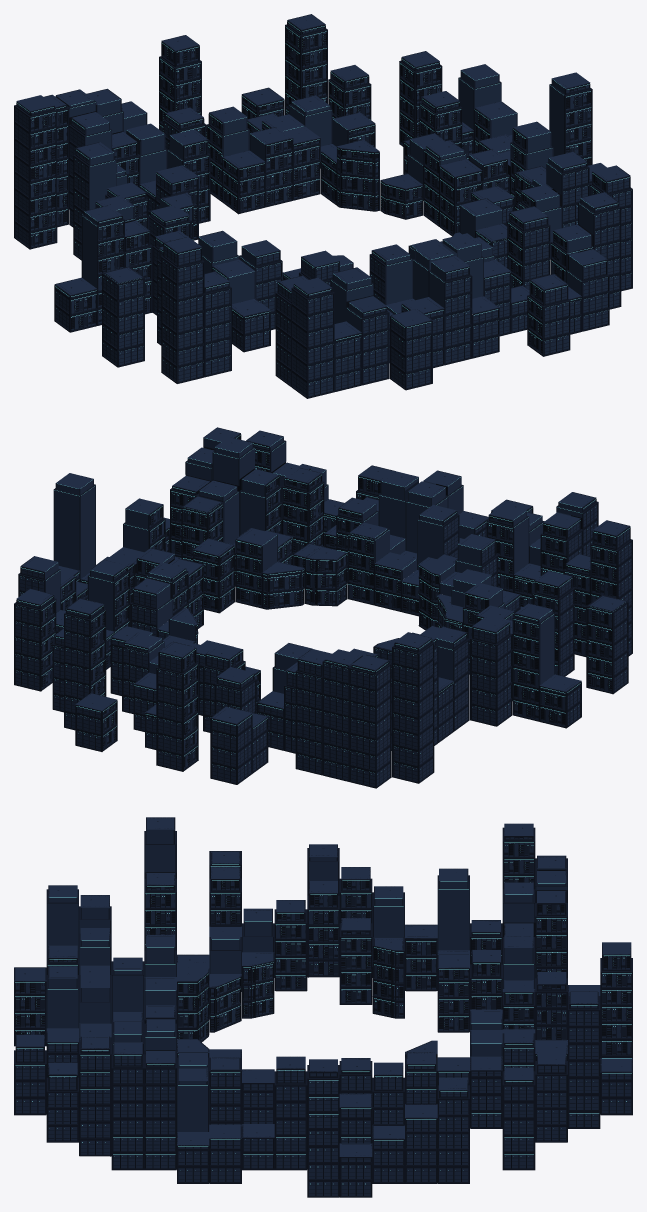
Rendered from battle_ring.fbx.
The picture shows the model from 3 angles, top to bottom: view 1: azimuth 30°, elevation 25°; view 2: azimuth 150°, elevation 25°; view 3: azimuth 270°, elevation 25°; orthographic projection. The views are drawn at different scales.
Parts seen in each view (by area): view 1: BattleRack_xp01_yp06_N_Step, BattleRack_xp06_yn04_N_Step, BattleRack_xn09_yp00_E_Step, BattleRack_xp03_yn06_N_Step, BattleRack_xp08_yp00_E_Step, BattleRack_xp00_yn06_N_Step, BattleRack_xn01_yp07_N_Step, BattleRack_xn03_yn06_N_Step, BattleRack_xn07_yp01_N_Step, BattleRack_xn08_yn04_E_Step, BattleRack_xn08_yn04_N_Step, BattleRack_xp05_yp03_N_Step (+10 smaller); view 2: BattleRack_xn09_yp00_S_Step, BattleRack_xn09_yp00_E_Step, BattleRack_xn01_yp07_S_Step, BattleRack_xn05_yp05_S_Step, BattleRack_xp01_yp06_S_Step, BattleRack_xp08_yp00_E_Step, BattleRack_xn06_yn03_S_Step, BattleRack_xn07_yp01_S_Step, BattleRack_xp00_yp07_S_Step, BattleRack_xn06_yp05_S_Step, BattleRack_xn06_yp04_E_Step, BattleRack_xp03_yp07_E_Step (+7 smaller); view 3: BattleRack_xp06_yn04_W_Step, BattleRack_xp05_yp08_W_Step, BattleRack_xn07_yp04_W_Step, BattleRack_xp00_yp08_W_Step, BattleRack_xp01_yp06_W_Step, BattleRack_xp08_yp05_W_Step, BattleRack_xp06_yn02_W_Step, BattleRack_xn01_yp07_W_Step, BattleRack_xp04_yp03_W_Step, BattleRack_xp03_yn06_W_Step, BattleRack_xp05_yp02_W_Step, BattleRack_xp05_yn06_W_Step (+126 smaller).
Part boxes in pixels (x1,y1,x2,y2): BattleRack_xp01_yp06_N_Step: [385, 255, 412, 304]; BattleRack_xp06_yn04_N_Step: [89, 152, 116, 209]; BattleRack_xn09_yp00_E_Step: [549, 79, 565, 156]; BattleRack_xp03_yn06_N_Step: [140, 134, 167, 184]; BattleRack_xp08_yp00_E_Step: [81, 211, 98, 288]; BattleRack_xp00_yn06_N_Step: [222, 117, 249, 156]; BattleRack_xn01_yp07_N_Step: [457, 243, 483, 298]; BattleRack_xn03_yn06_N_Step: [305, 106, 332, 146]; BattleRack_xn07_yp01_N_Step: [526, 132, 553, 169]; BattleRack_xn08_yn04_E_Step: [458, 70, 474, 130]; BattleRack_xn08_yn04_N_Step: [474, 74, 501, 107]; BattleRack_xp05_yp03_N_Step: [227, 271, 255, 304]; BattleRack_xn09_yp00_S_Step: [53, 483, 80, 570]; BattleRack_xn09_yp00_E_Step: [80, 479, 95, 579]; BattleRack_xn01_yp07_S_Step: [378, 481, 405, 538]; BattleRack_xn05_yp05_S_Step: [239, 479, 265, 535]; BattleRack_xp01_yp06_S_Step: [417, 515, 443, 570]; BattleRack_xp08_yp00_E_Step: [539, 609, 554, 685]; BattleRack_xn06_yn03_S_Step: [87, 570, 114, 631]; BattleRack_xn07_yp01_S_Step: [123, 508, 149, 552]; BattleRack_xp00_yp07_S_Step: [405, 491, 431, 553]; BattleRack_xn06_yp05_S_Step: [212, 447, 239, 485]; BattleRack_xn06_yp04_E_Step: [223, 487, 239, 544]; BattleRack_xp03_yp07_E_Step: [513, 511, 528, 573]; BattleRack_xp06_yn04_W_Step: [437, 881, 469, 950]; BattleRack_xp05_yp08_W_Step: [46, 897, 78, 950]; BattleRack_xn07_yp04_W_Step: [177, 1081, 209, 1131]; BattleRack_xp00_yp08_W_Step: [46, 978, 78, 1028]; BattleRack_xp01_yp06_W_Step: [111, 970, 144, 1019]; BattleRack_xp08_yp05_W_Step: [144, 829, 176, 872]; BattleRack_xp06_yn02_W_Step: [372, 898, 404, 936]; BattleRack_xn01_yp07_W_Step: [79, 988, 111, 1023]; BattleRack_xp04_yp03_W_Step: [209, 939, 241, 973]; BattleRack_xp03_yn06_W_Step: [502, 948, 535, 988]; BattleRack_xp05_yp02_W_Step: [242, 921, 274, 952]; BattleRack_xp05_yn06_W_Step: [502, 894, 535, 922].
Size of the model in its own units: 76 by 19.07 by 76.
